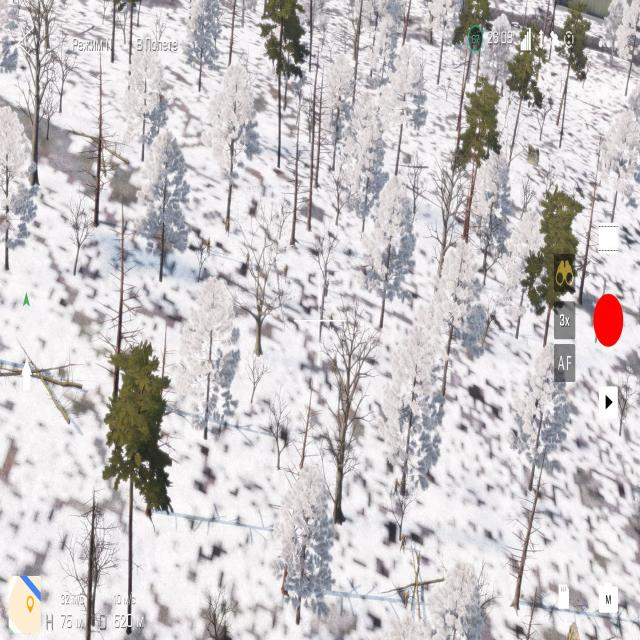infantry: (322, 275, 334, 303), (401, 587, 412, 613), (398, 533, 408, 560), (282, 262, 292, 288), (223, 216, 233, 242), (204, 234, 215, 257), (243, 245, 252, 273), (391, 475, 400, 499), (328, 310, 336, 334), (332, 352, 338, 379)
